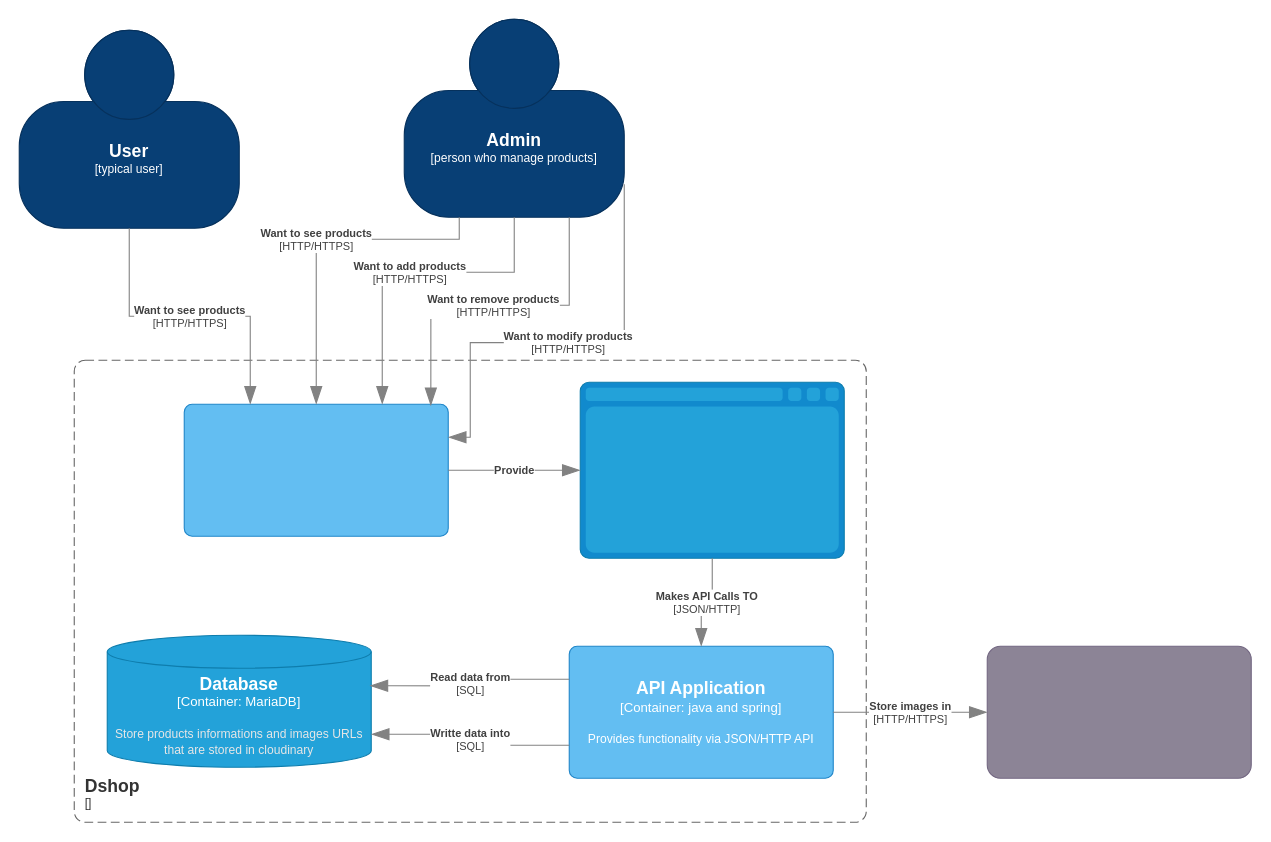
This 1271x842 diagram has some shape labels left out. The shapes that lost their labels are listed below. From the top down, each one's centre as x and y in pixels, then its label:
(x=315, y=469): WebServer [Host : Vercel] Provides website to web browsers
(x=711, y=469): Single-Page Application [Container: React] User graphical interface
(x=1118, y=711): Cloudinary [Cloud Solution] Store and convert images to public url
